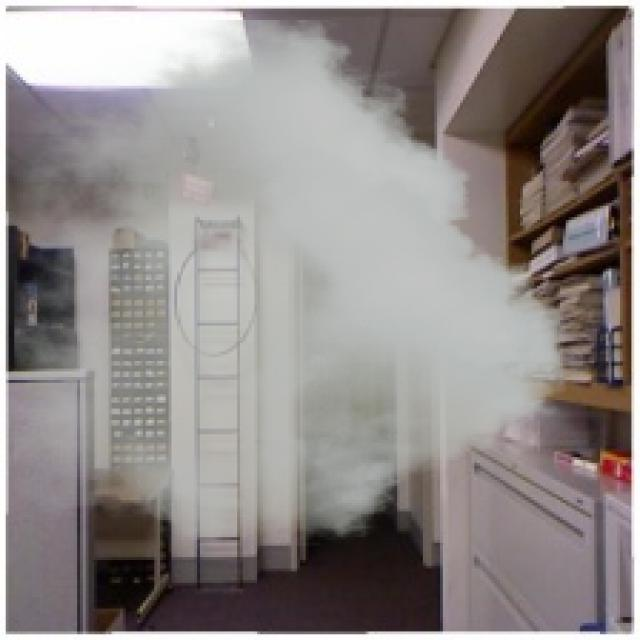smoke: (14, 20, 566, 546)
